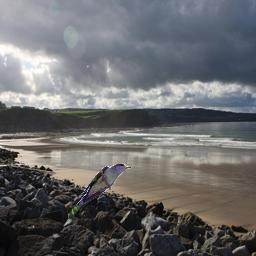Cuckoo: (68, 163, 132, 218)
